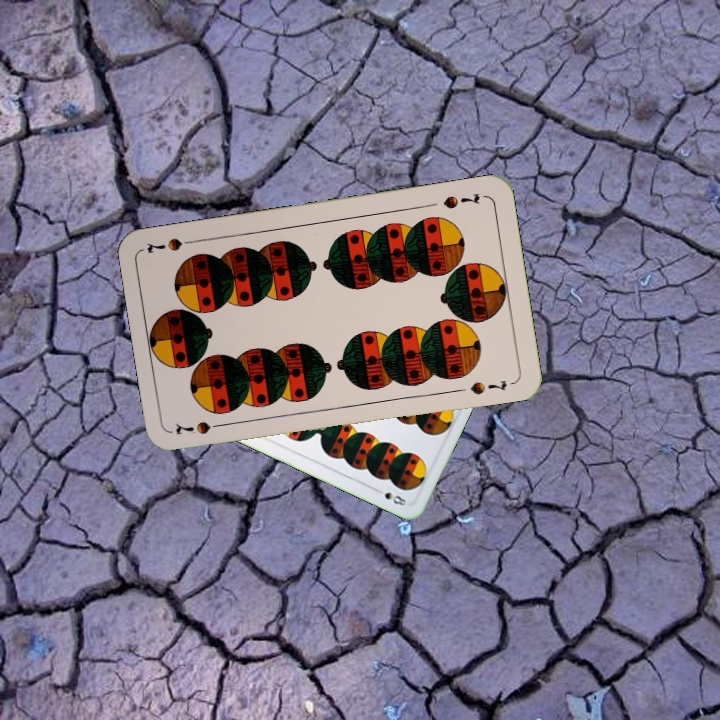S7: (171, 417, 229, 438), (439, 189, 483, 212)
